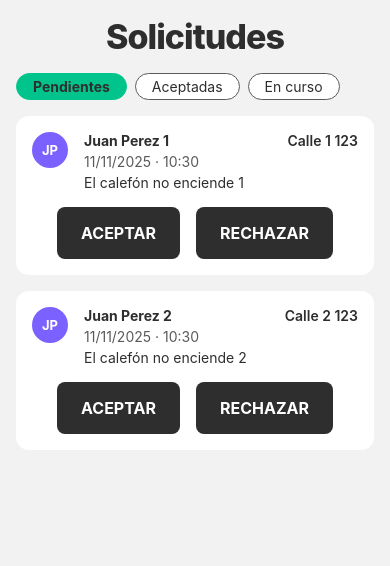
Test: SolicitudesScreen › RECHAZAR pide confirmación, envía el motivo, quita la tarjeta y avisa
Step 1. Click the 1st button "RECHAZAR" → (264, 233), box [196,207,333,259]
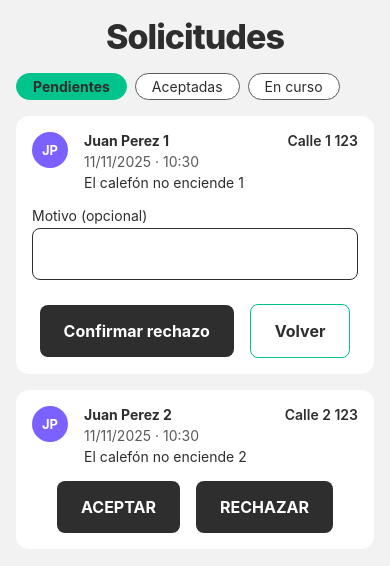
Step 2. Type "No llego esa semana" into the text box named "Motivo (opcional)" → (195, 254), box [49,229,341,279]
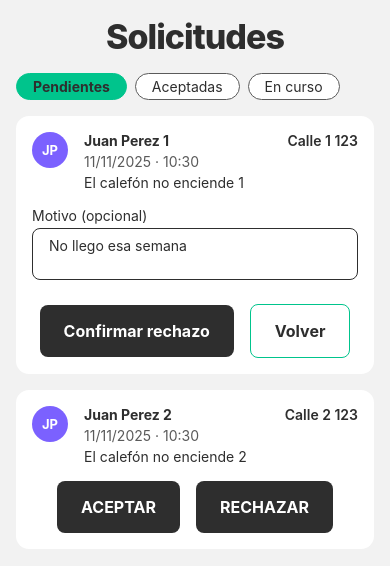
Step 3. Click the button "Confirmar rechazo" → (137, 331), box [40,305,234,357]
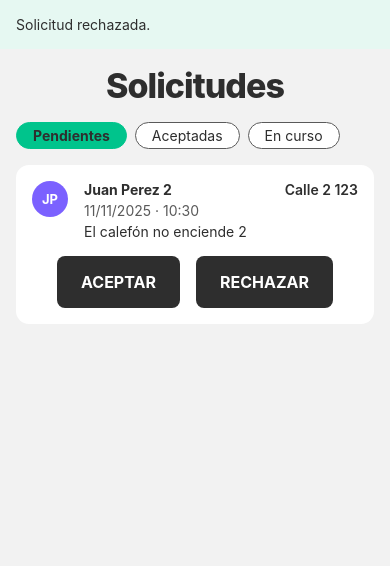
Check: the text "Juan Perez 2" is shown, box [84,181,172,198]
Check: the text "Solicitud rechazada." is shown, box [0,0,389,49]
Check: the button "Juan Perez 1" is gone
